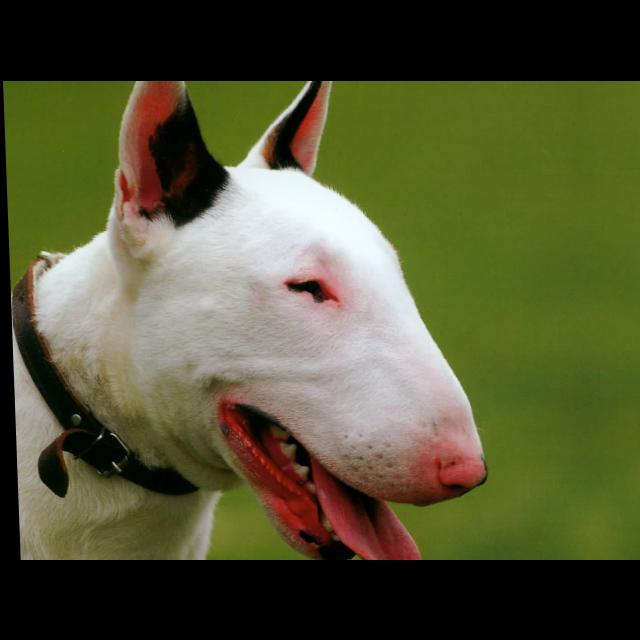bullterrier: (4, 82, 489, 561)
